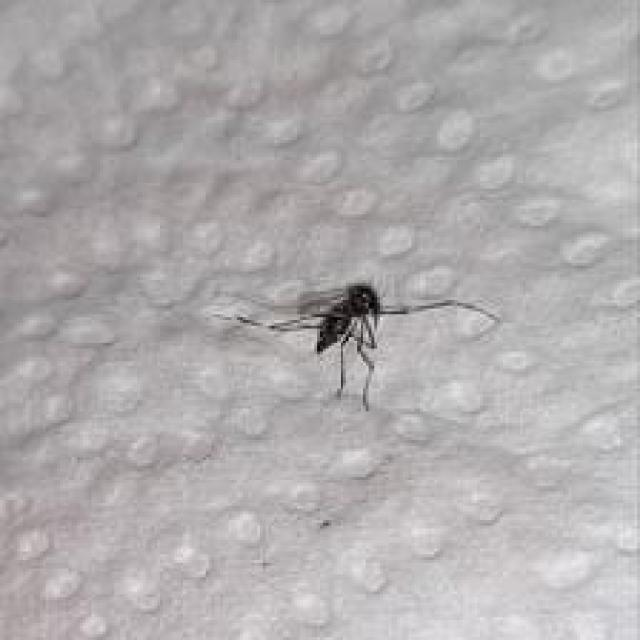Aedes albopictus: (211, 278, 500, 413)
